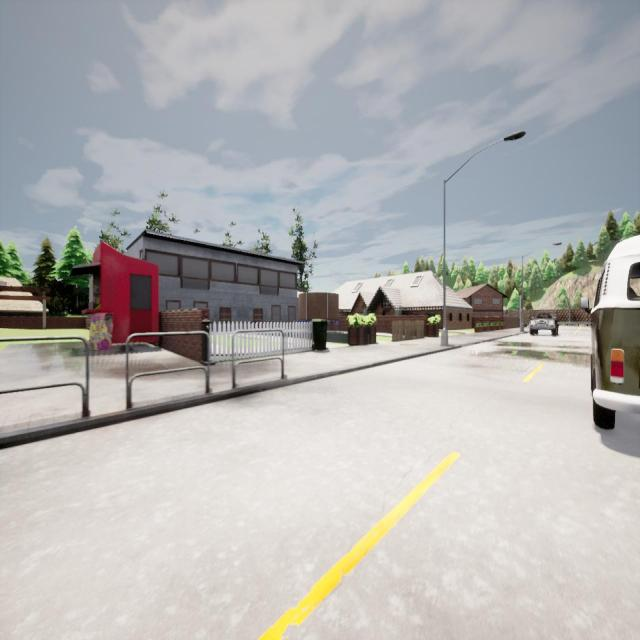Vehicle: (580, 234, 640, 428), (529, 312, 559, 336)
traffic_light: (520, 298, 522, 308)
